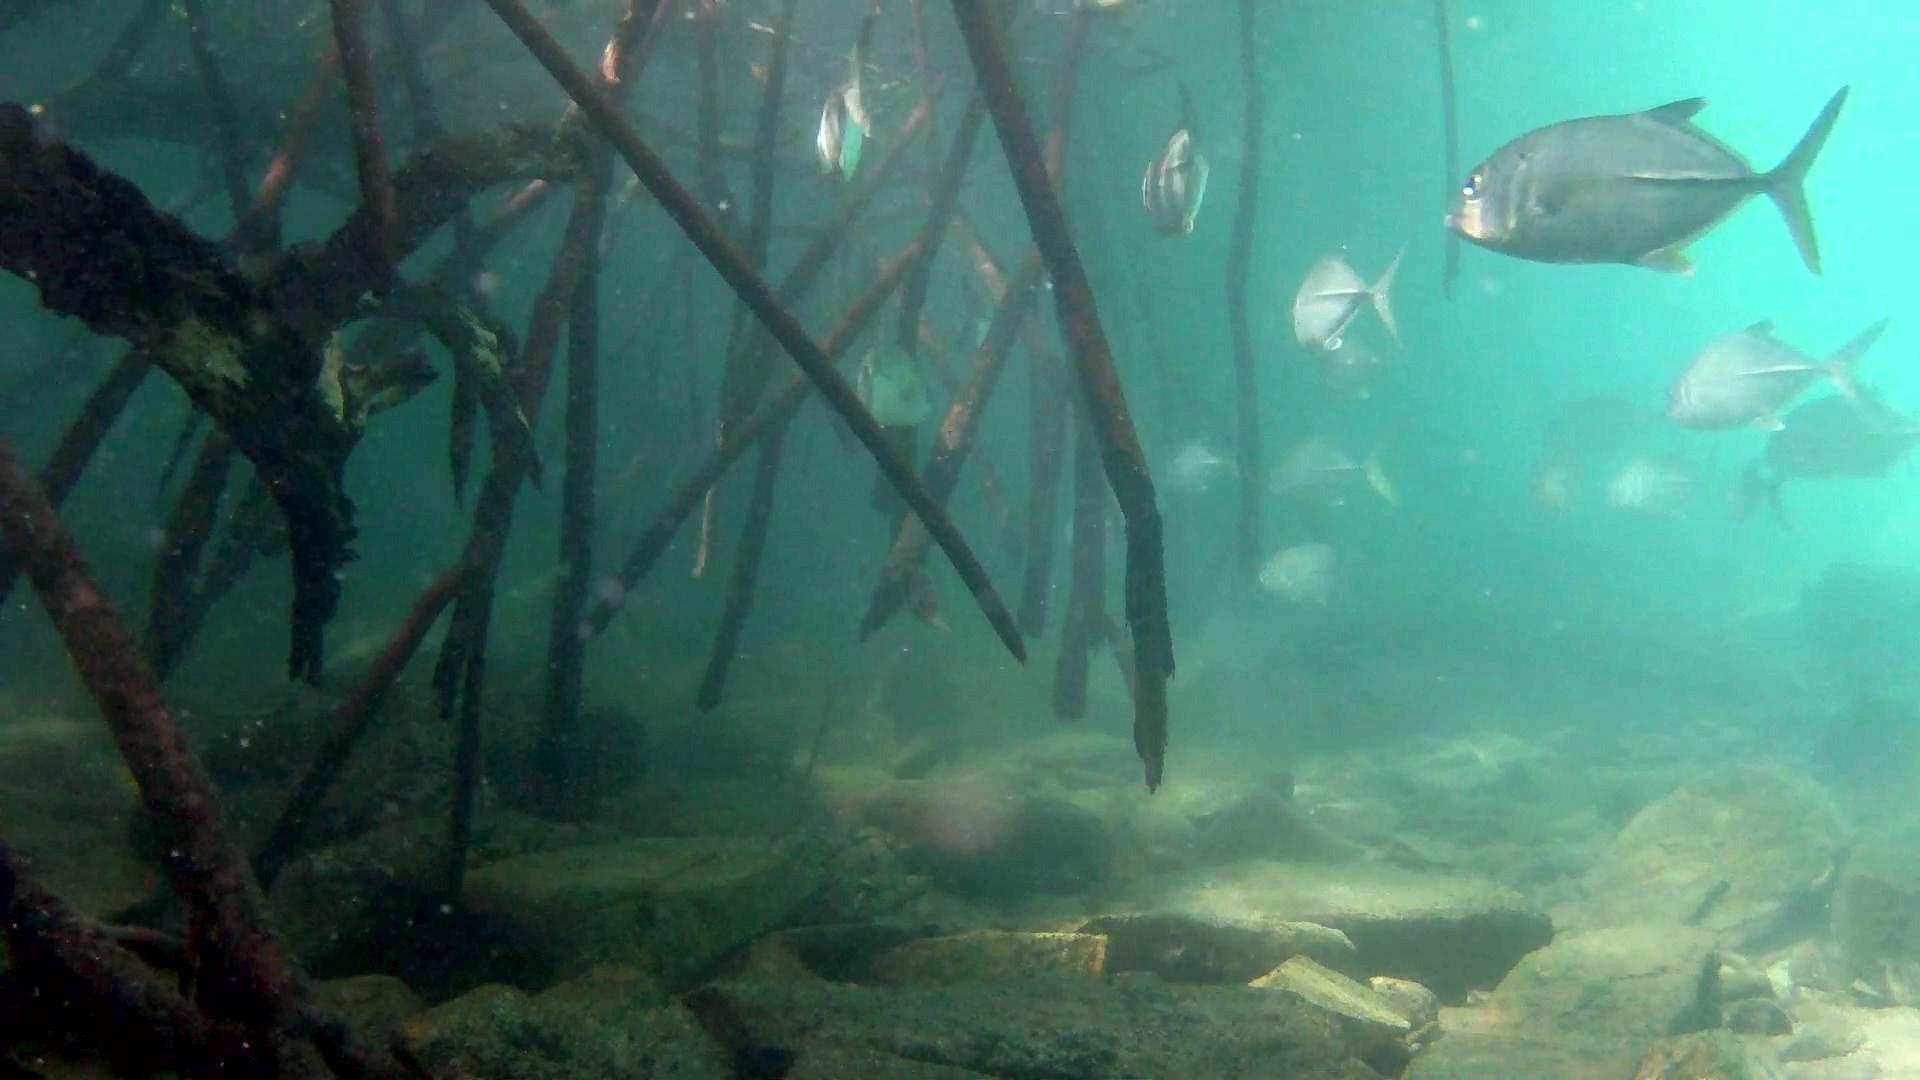caranx: (1433, 76, 1869, 293), (1653, 298, 1905, 446), (1273, 238, 1421, 368)
